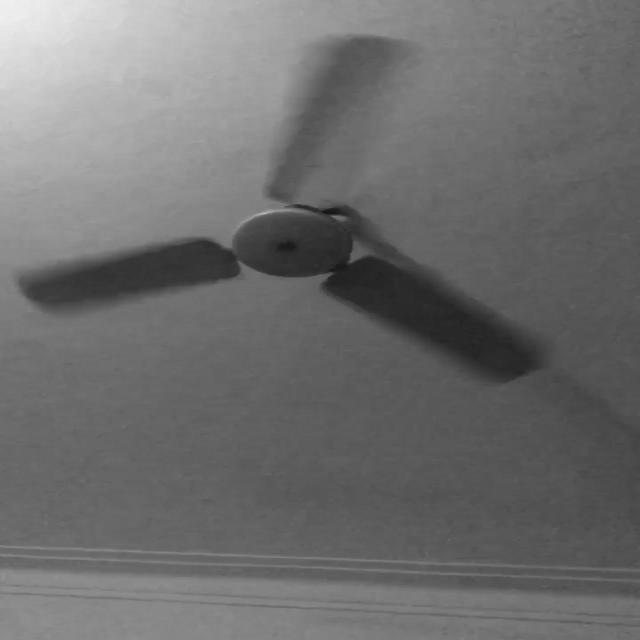fan: (8, 33, 584, 394)
light: (229, 205, 354, 277)
